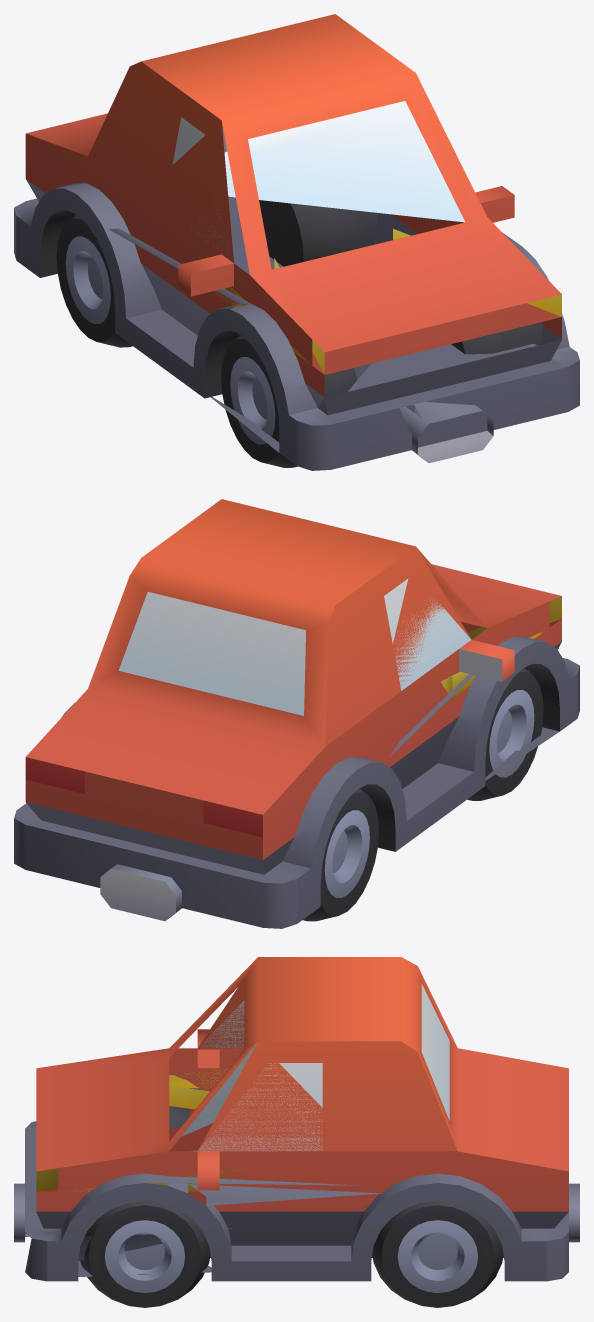
File: damaged-car.glb
3 renders of one model, top to bottom at view 1: azimuth 30°, elevation 25°; view 2: azimuth 150°, elevation 25°; view 3: azimuth 270°, elevation 25°, orthographic. The views are drawn at different scales.
Visible parts, largest first — view 1: body, wheel-front-right, wheel-back-right, wheel-back-left, wheel-front-left; view 2: body, wheel-back-right, wheel-front-right; view 3: body, wheel-back-left, wheel-front-left.
Part boxes in pixels (left/top/right/bottom): body: left=14, top=14, right=579, bottom=470; wheel-front-right: left=221, top=335, right=357, bottom=467; wheel-back-right: left=56, top=214, right=132, bottom=347; wheel-back-left: left=241, top=200, right=362, bottom=266; wheel-front-left: left=451, top=332, right=524, bottom=354; body: left=14, top=499, right=579, bottom=928; wheel-back-right: left=303, top=788, right=378, bottom=921; wheel-front-right: left=467, top=668, right=543, bottom=800; body: left=14, top=957, right=579, bottom=1281; wheel-back-left: left=372, top=1201, right=503, bottom=1307; wheel-front-left: left=80, top=1191, right=210, bottom=1307.
Size of the model in its own units: 1.5 by 1.3 by 2.55.
1 material, 1 textured.
